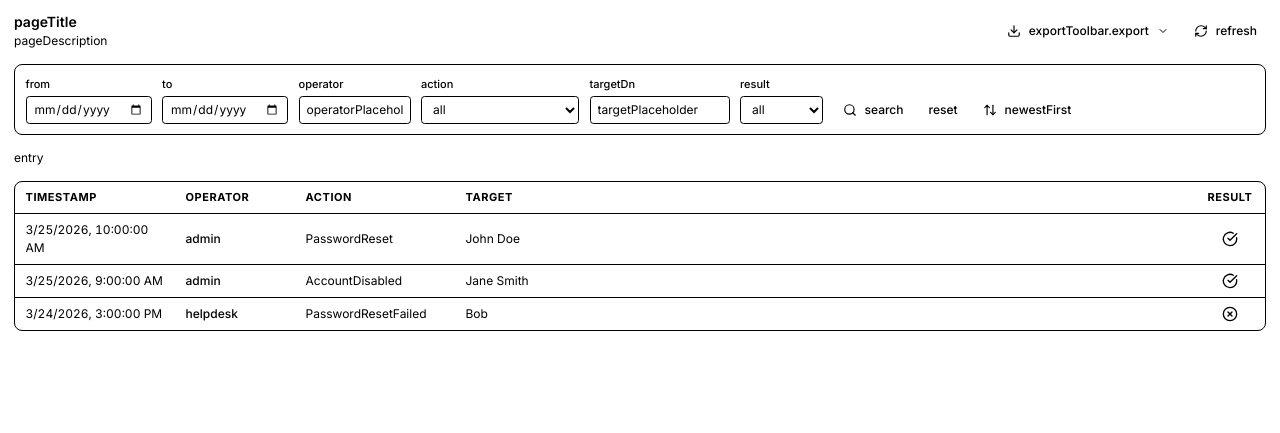
Test: AuditLog › collapses an expanded row when clicked again
Click the row with test id "audit-row" that starts with "3/25/2026, 10:00:00 AM" at (640, 238), box [15, 213, 1265, 264]
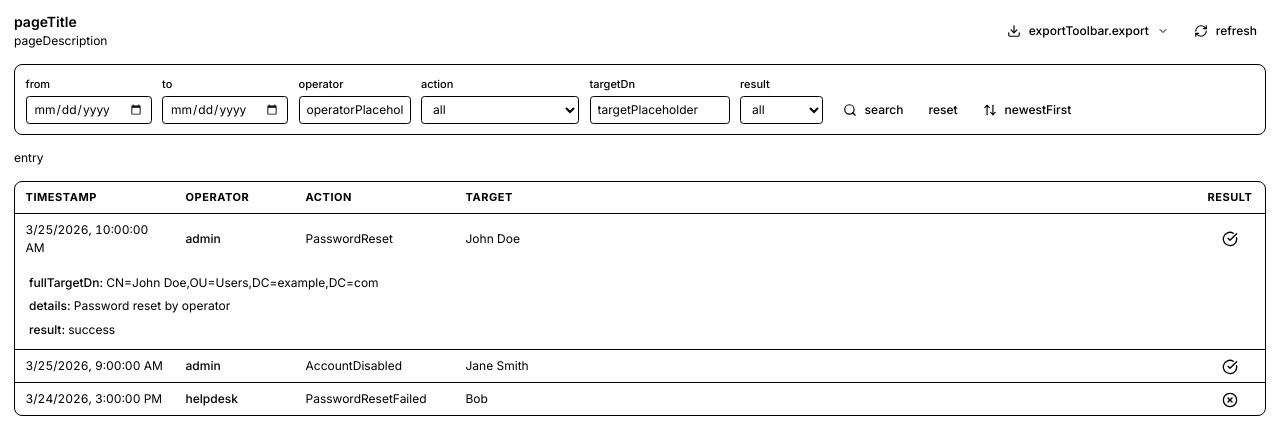
Now the text "Password reset by operator" is shown, box [74, 298, 230, 313]
Click the row with test id "audit-row" that starts with "3/25/2026, 10:00:00 AM" at (640, 238), box [15, 213, 1265, 264]
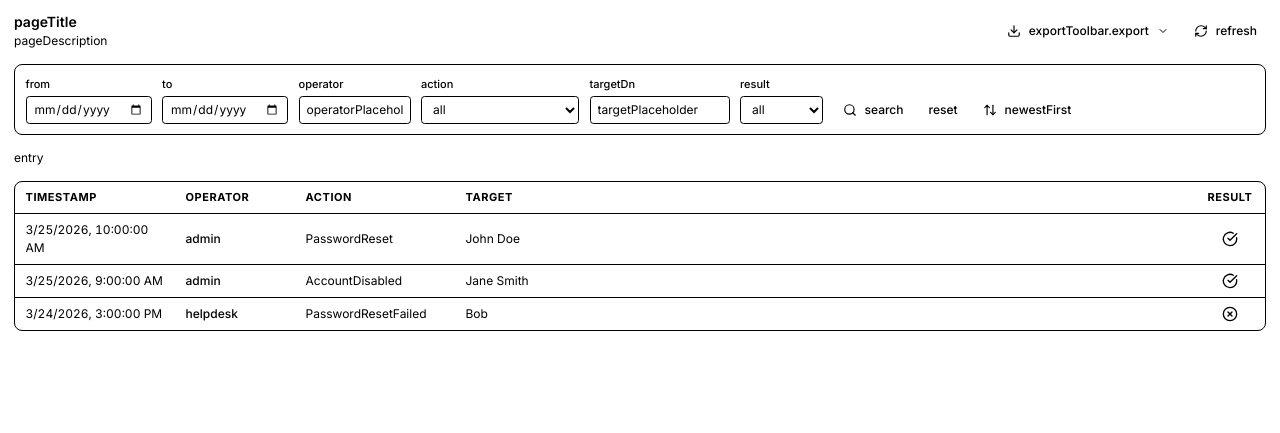
Now the text "Password reset by operator" is gone
